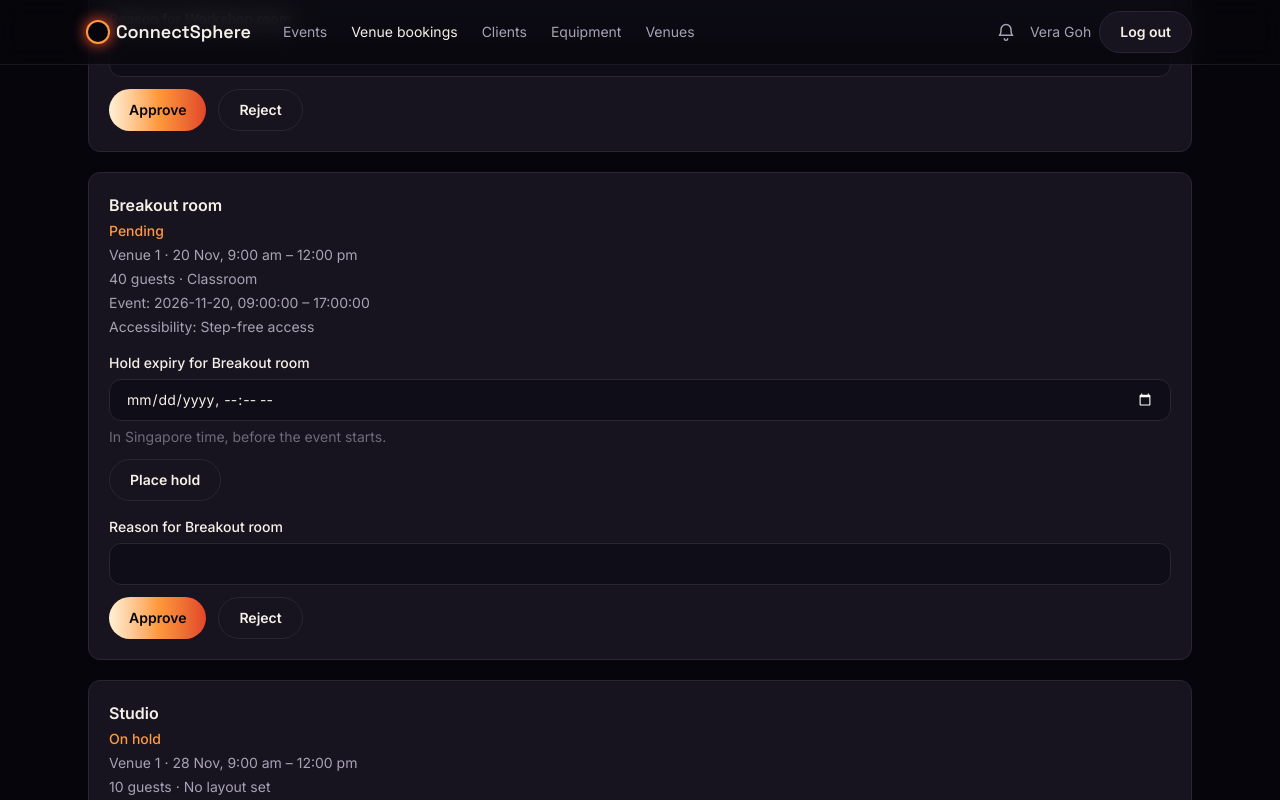
it: SCRUM-75 holding a venue from the venue booking decisions screen › decides a request on hold with Reject, and it leaves the queue
(page scrolled)
Type "2026-11-15T17:00" into the field labelled "Hold expiry for Breakout room" at (640, 400), box [109,379,1171,421]
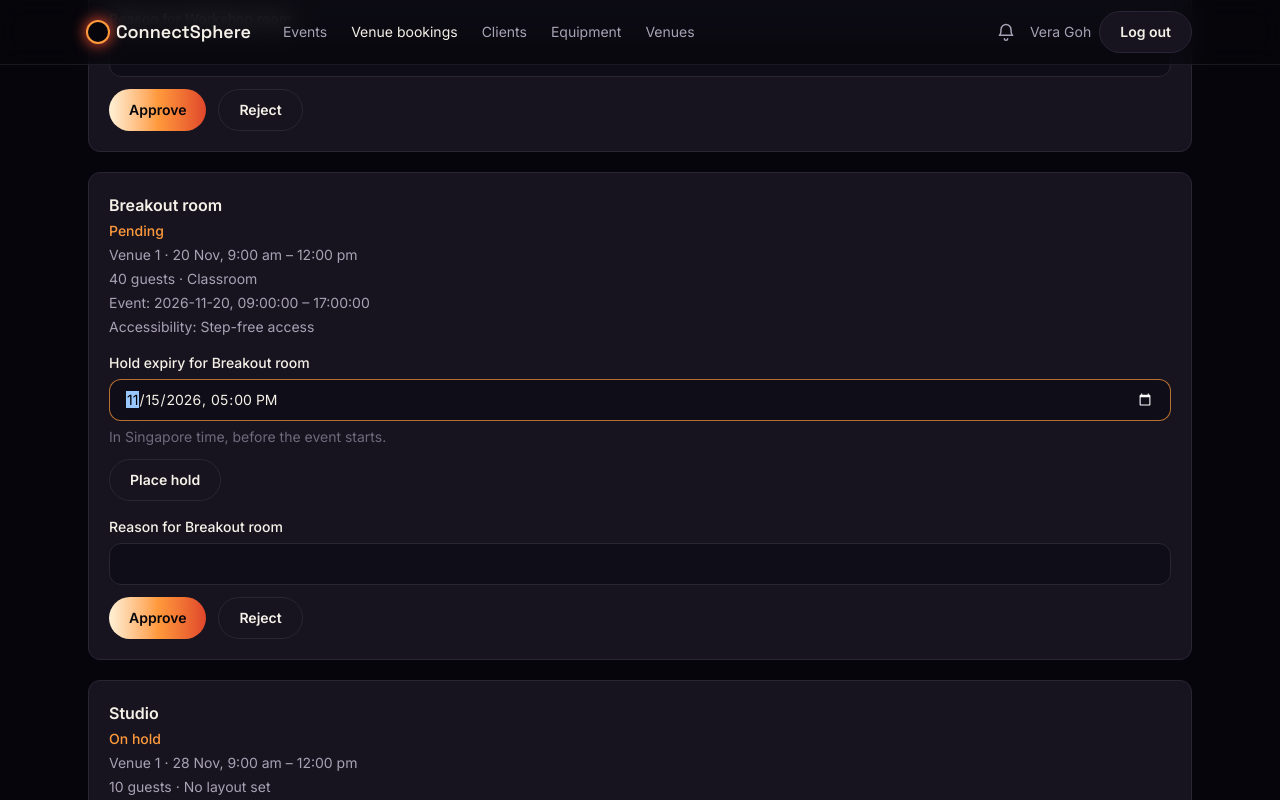
Click the button "Place hold" at (165, 480), box [109,459,221,501]
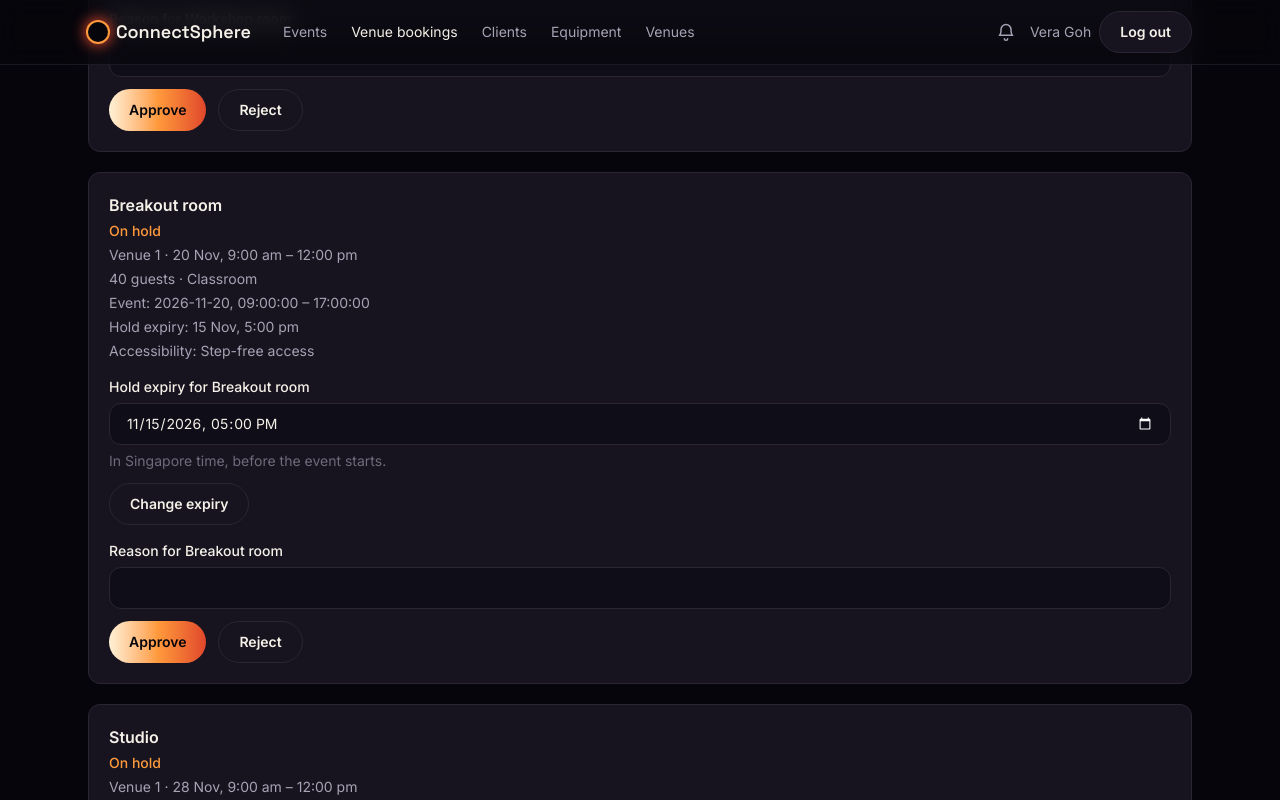
Check: the text "Hold expiry: 15 Nov, 5:00 pm" is shown, box [109,318,299,335]
Type "Finalised" into the field labelled "Reason for Breakout room" at (640, 588), box [109,567,1171,609]
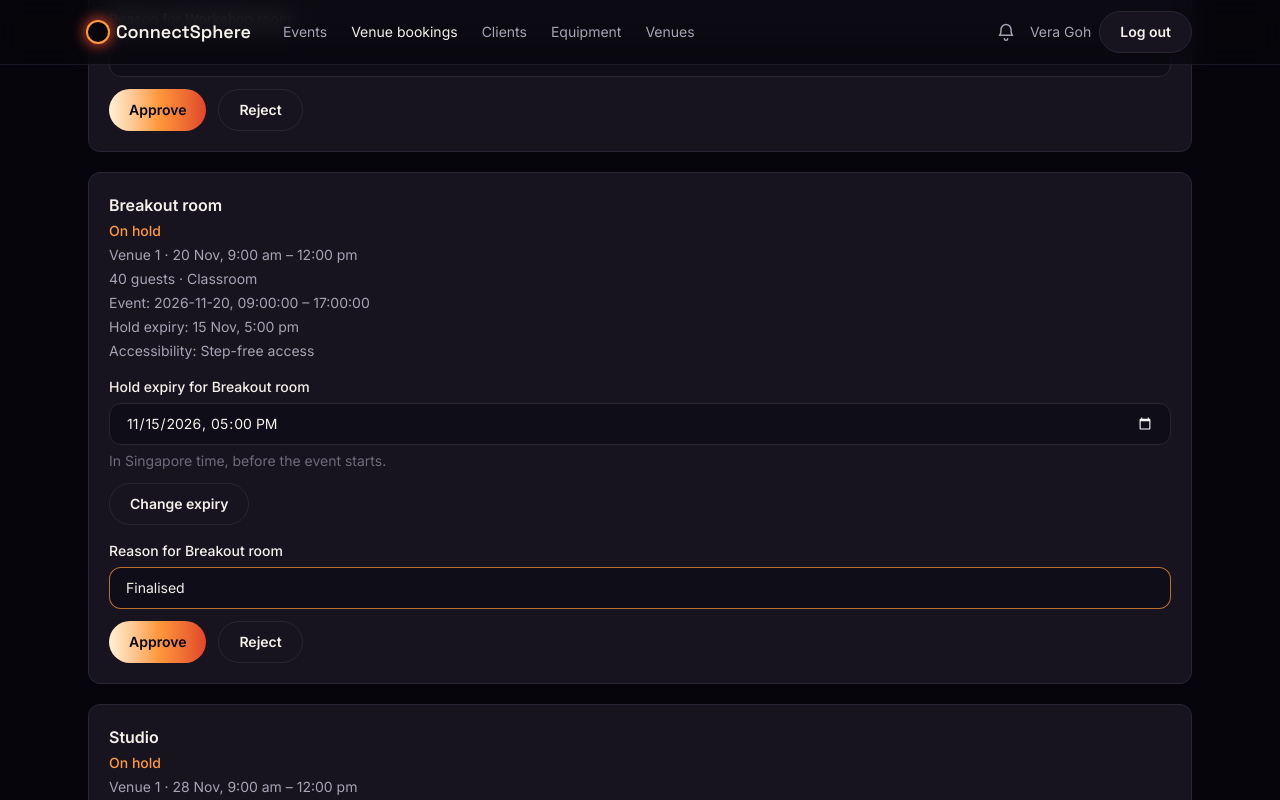
Click the button "Reject" below "Reason for Breakout room" at (261, 642), box [218,621,303,663]
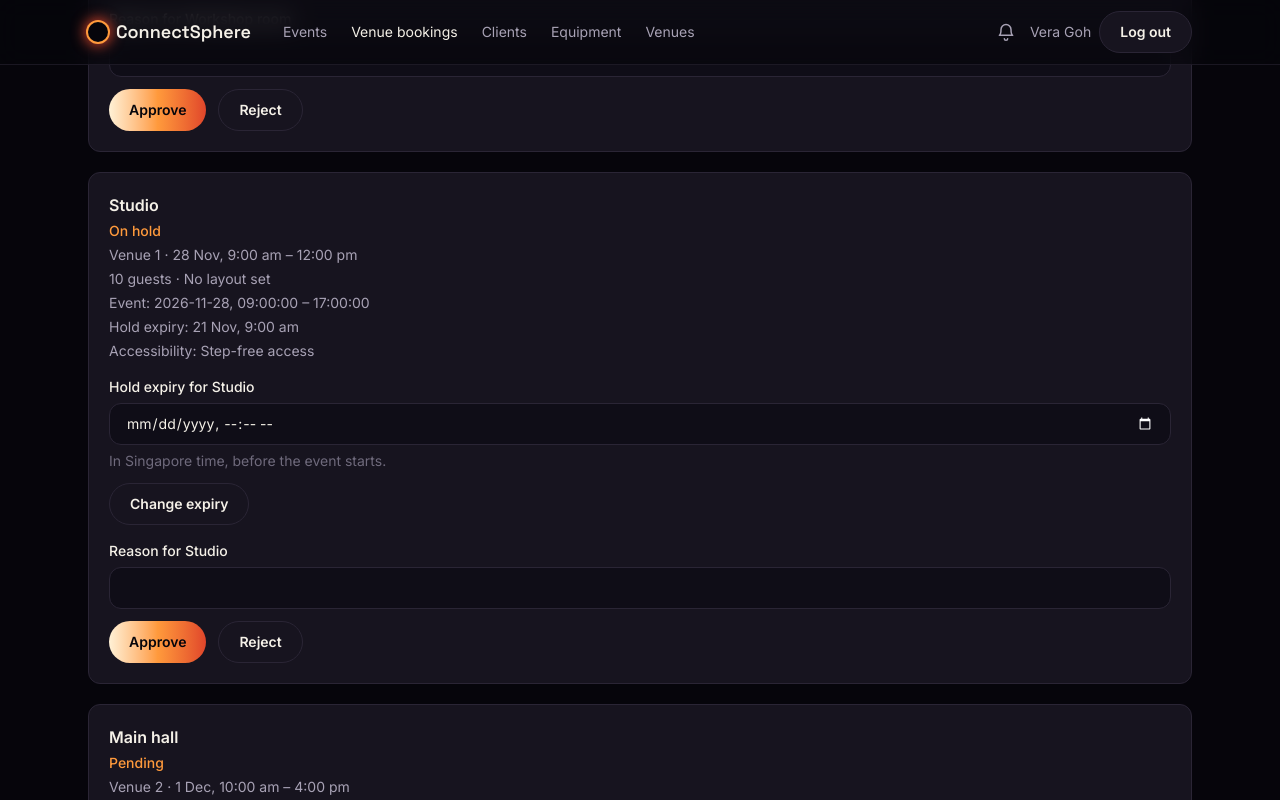
Check: the heading "Breakout room" is gone
